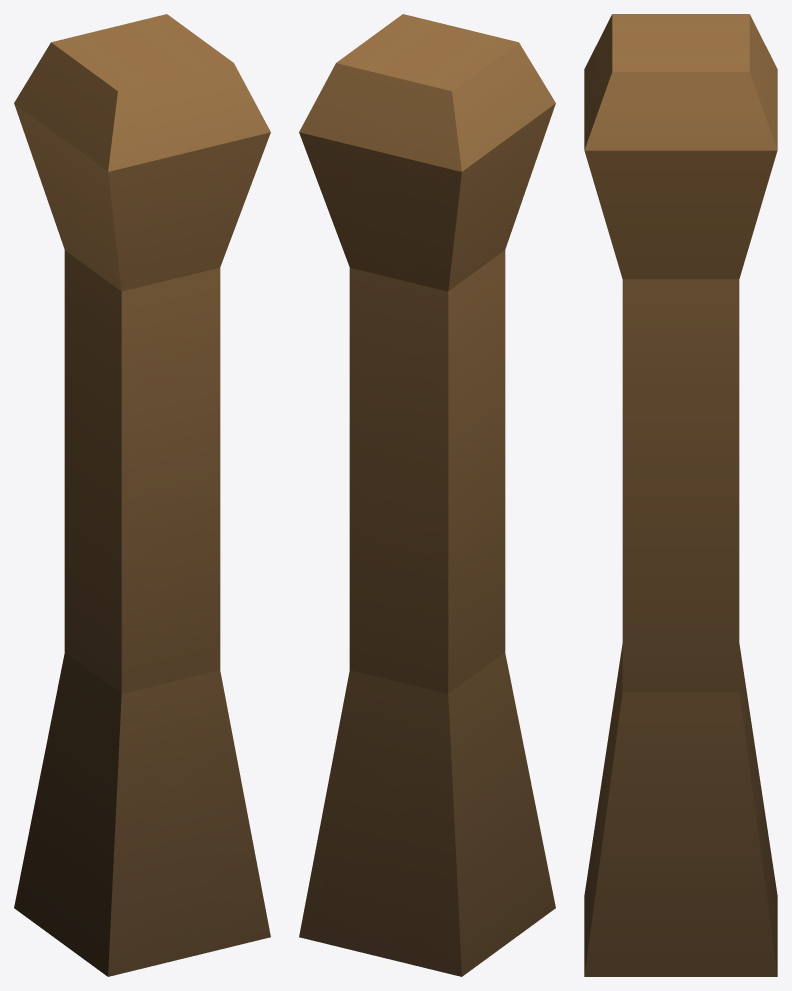
Rendered from Fence_Pole004.fbx.
3 renders of one model, left to right at view 1: azimuth 30°, elevation 25°; view 2: azimuth 150°, elevation 25°; view 3: azimuth 270°, elevation 25°, orthographic. The views are drawn at different scales.
Visible parts, largest first — view 1: Cube.030; view 2: Cube.030; view 3: Cube.030.
Boxes of the visible parts, x1,y1,x2,y2 form: Cube.030: (14,14,270,976); Cube.030: (299,14,555,976); Cube.030: (584,14,777,976).
Size of the model in its own units: 31.43 by 160 by 31.43.
